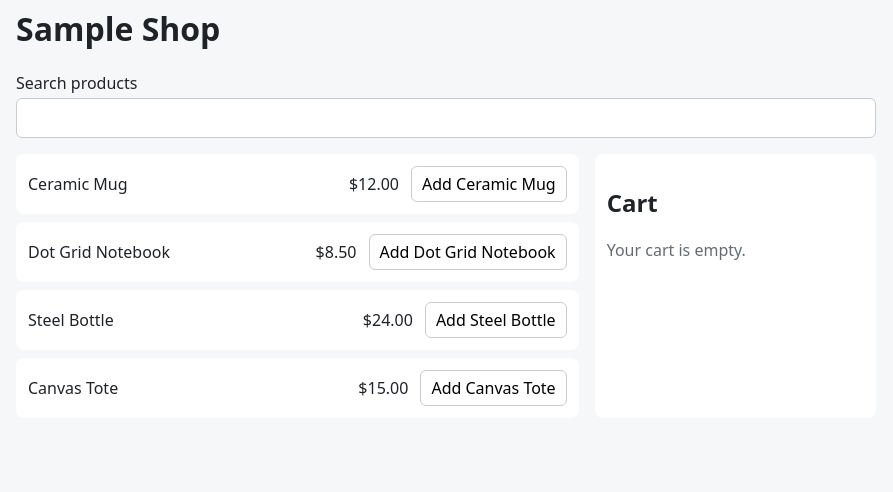
Test: App › adds to the cart, applies a coupon and removes the item
Click the button "Add Ceramic Mug" at coordinates (489, 184), box 411,166 -> 567,202
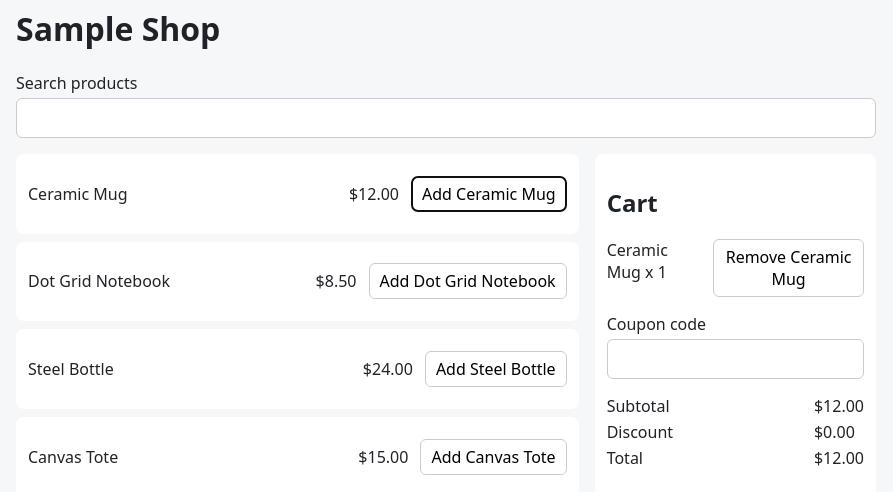
Click the button "Add Ceramic Mug" at coordinates (489, 194), box 411,176 -> 567,212
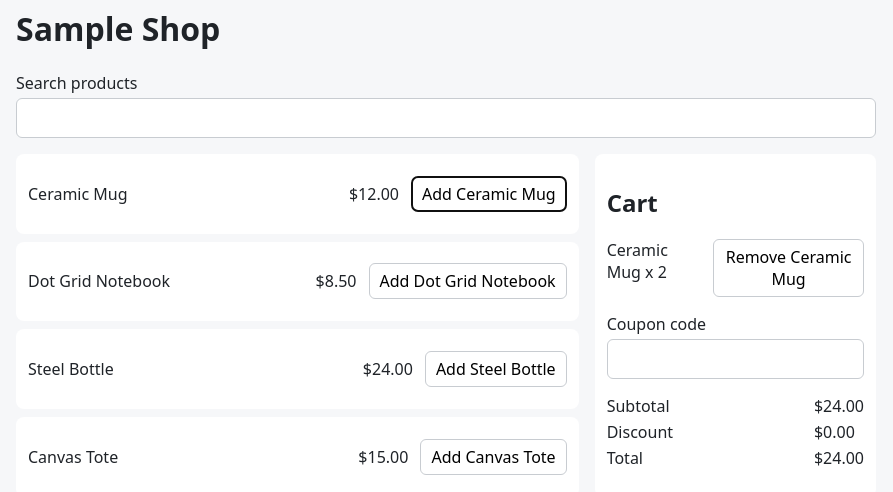
Type "SAVE10" into the field labelled "Coupon code" at coordinates (735, 359), box 607,339 -> 864,379
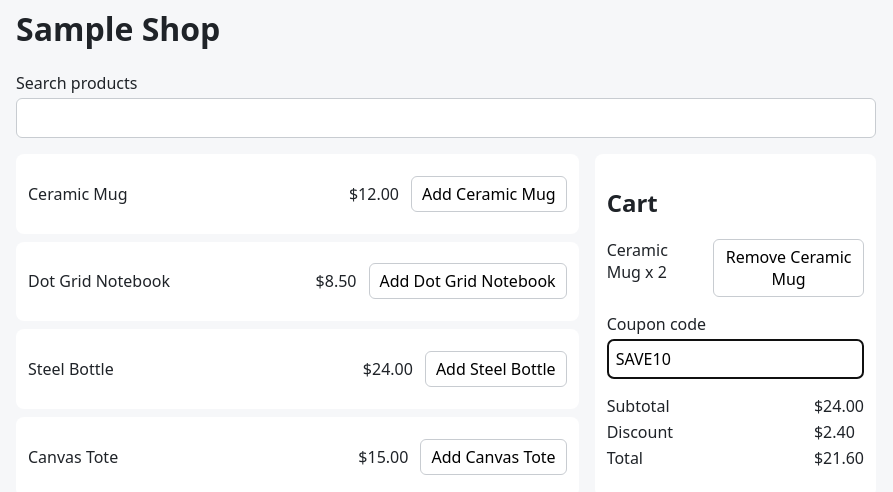
Now the list item "Ceramic Mug x 2" is shown, box 607,239 -> 864,297
Now the text "$21.60" is shown, box 814,447 -> 864,469
Click the button "Remove Ceramic Mug" at coordinates (789, 268), box 713,239 -> 864,297
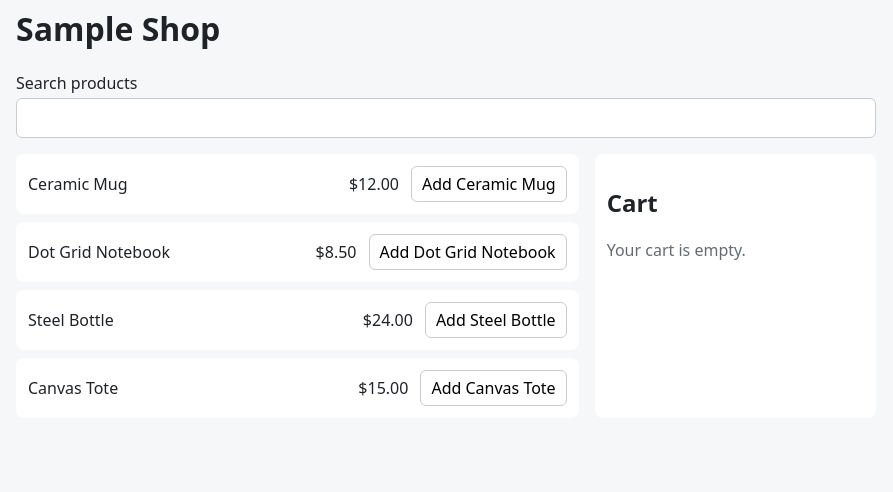
Now the text "Your cart is empty." is shown, box 607,239 -> 746,261
